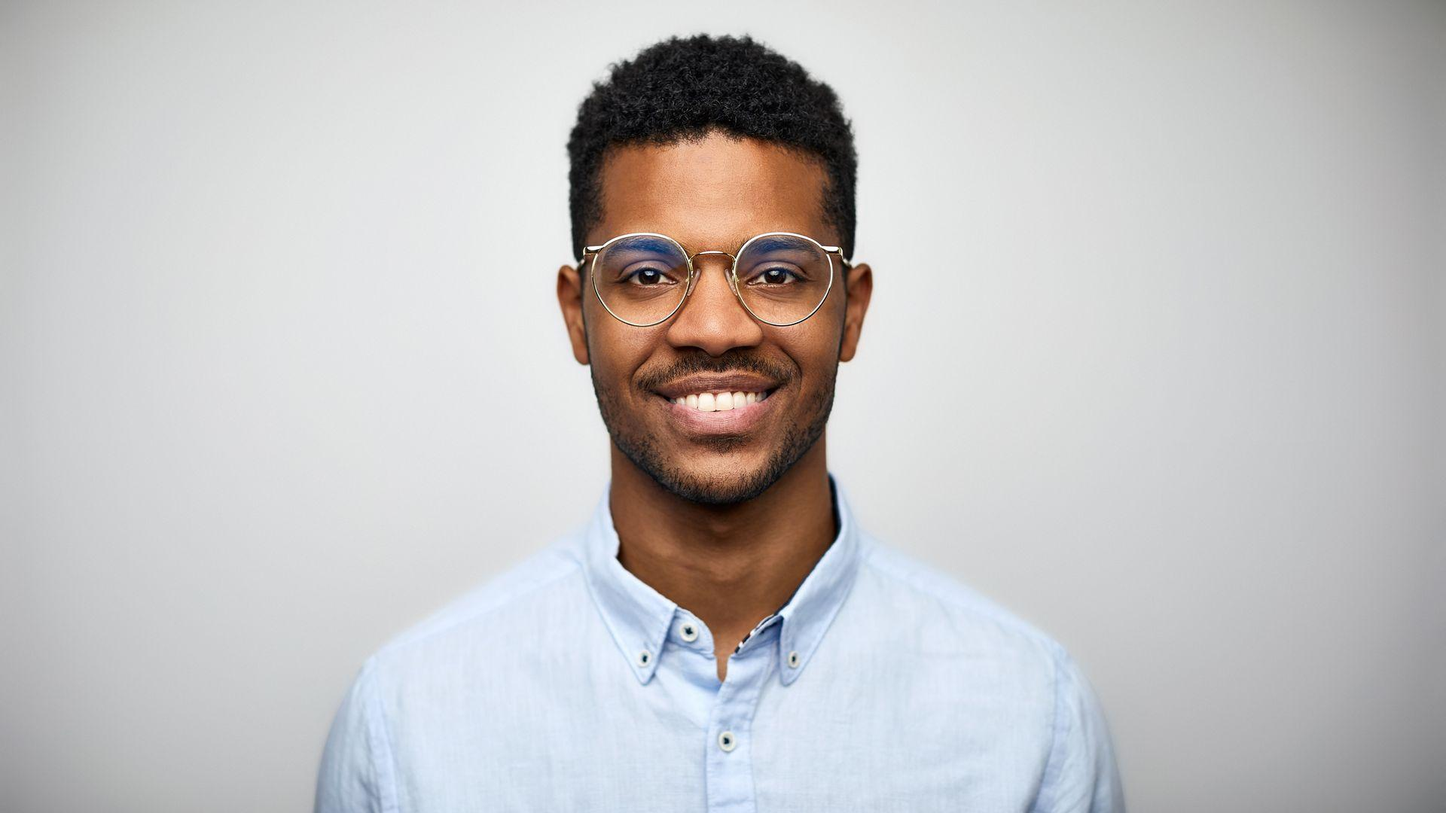Persons: (538, 13, 891, 570)
